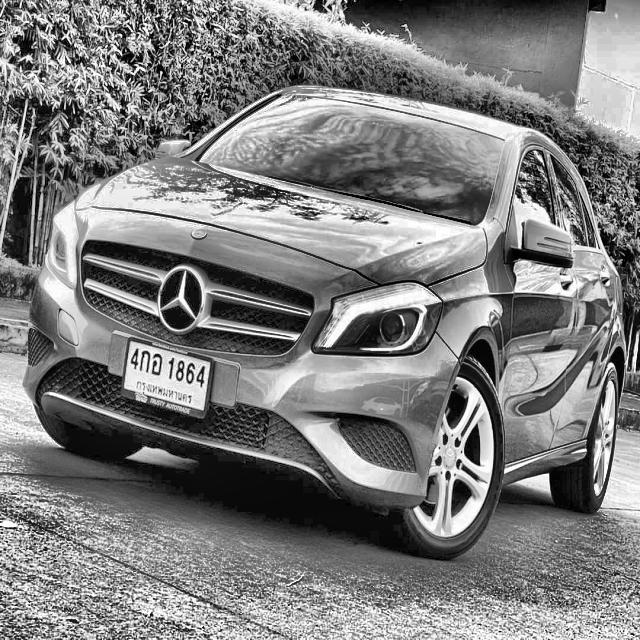license-plate: (118, 334, 218, 422)
